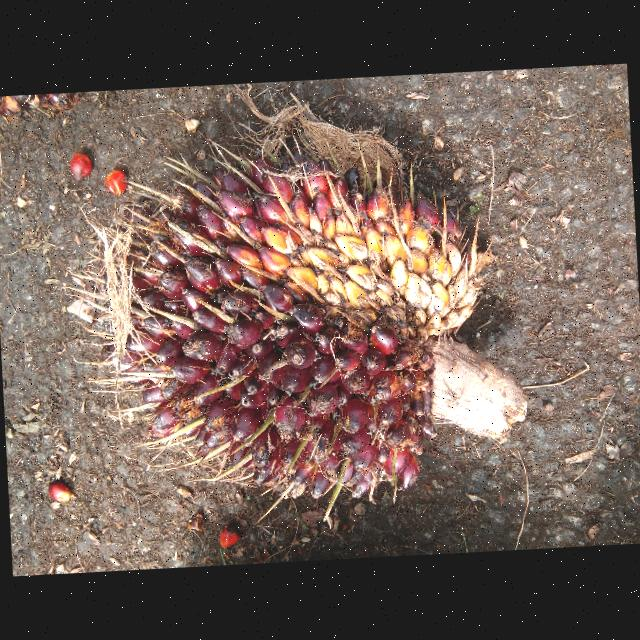Ripe: (107, 146, 497, 487)
